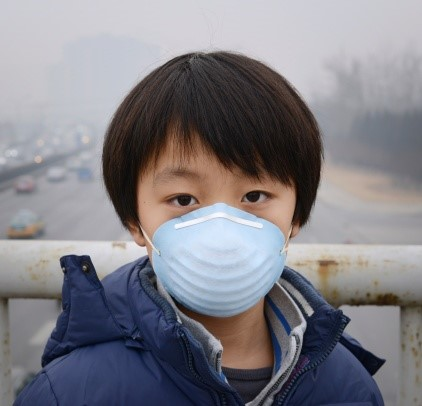face_with_mask: (126, 75, 303, 333)
